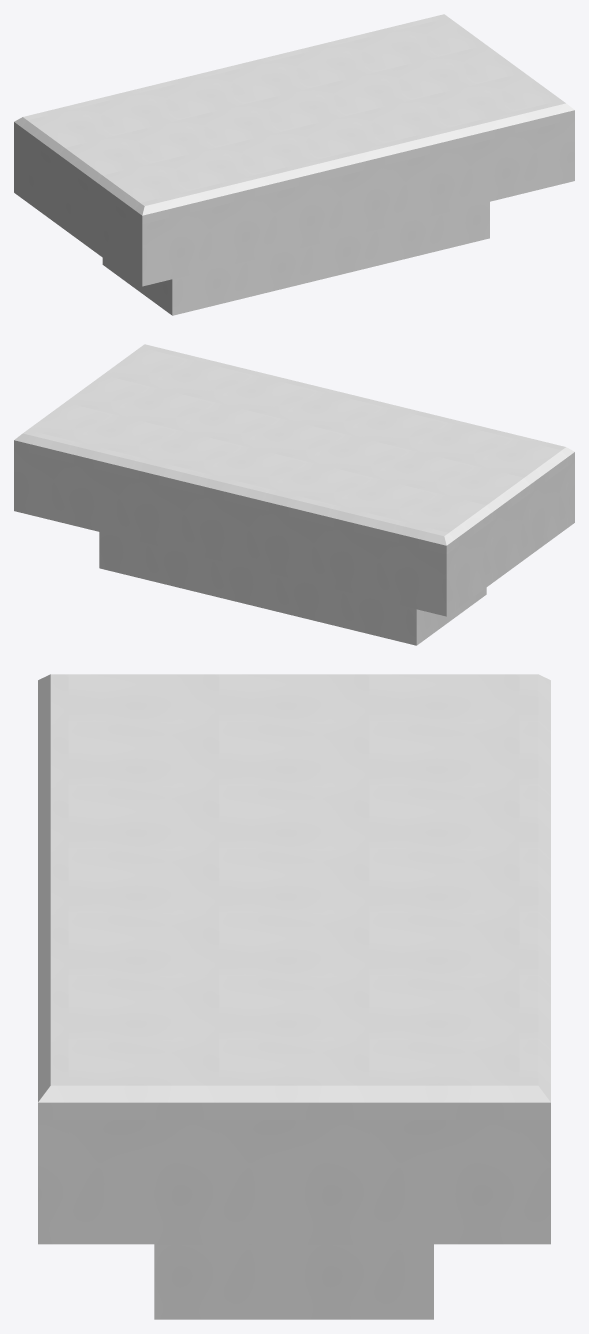
File: mesa1.glb
The picture shows the model from 3 angles, top to bottom: view 1: azimuth 30°, elevation 25°; view 2: azimuth 150°, elevation 25°; view 3: azimuth 270°, elevation 25°; orthographic projection. The views are drawn at different scales.
Visible parts, largest first — view 1: Cube; view 2: Cube; view 3: Cube.
Boxes of the visible parts, <box> form: Cube: <box>14,14,574,315</box>; Cube: <box>14,344,574,645</box>; Cube: <box>38,674,550,1319</box>.
Size of the model in its own units: 6.65 by 2.08 by 3.41.
Materials: 1 (1 with a texture image).
